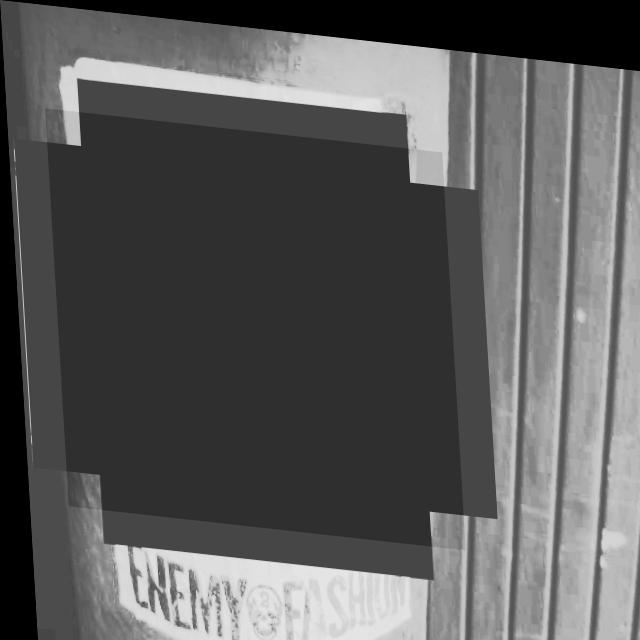qr_code: (44, 107, 459, 540)
